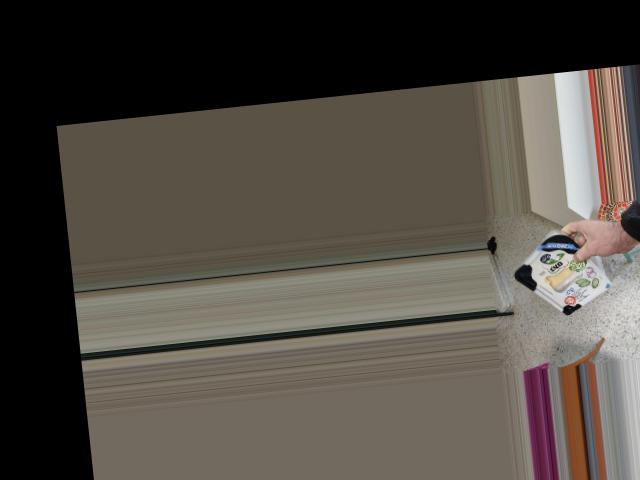cheese: (520, 207, 600, 324)
